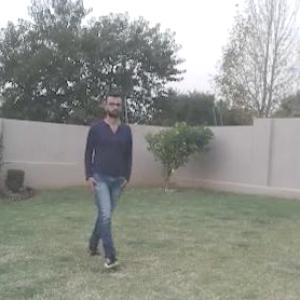follow: (86, 95, 128, 243)
